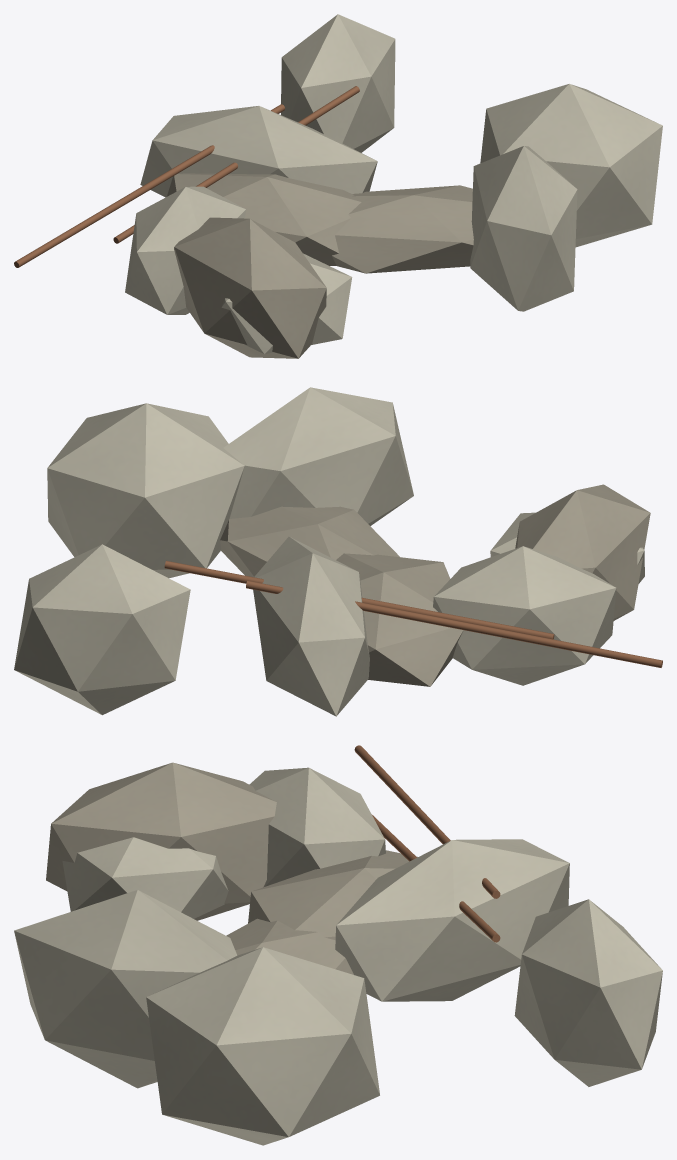
Rendered from Rubble_Cluster_2.glb.
3 views of the same model, one above another, from view 1: azimuth 30°, elevation 25°; view 2: azimuth 150°, elevation 25°; view 3: azimuth 270°, elevation 25° (orthographic). The views are drawn at different scales.
Visible parts, largest first — view 1: Rubble_Cluster_2; view 2: Rubble_Cluster_2; view 3: Rubble_Cluster_2.
Part boxes in pixels (left/top/right/bottom): Rubble_Cluster_2: left=14, top=14, right=662, bottom=358; Rubble_Cluster_2: left=14, top=387, right=662, bottom=716; Rubble_Cluster_2: left=14, top=745, right=662, bottom=1145.
Size of the model in its own units: 2.38 by 0.637 by 1.89.
Materials: 3 (3 with a texture image).
